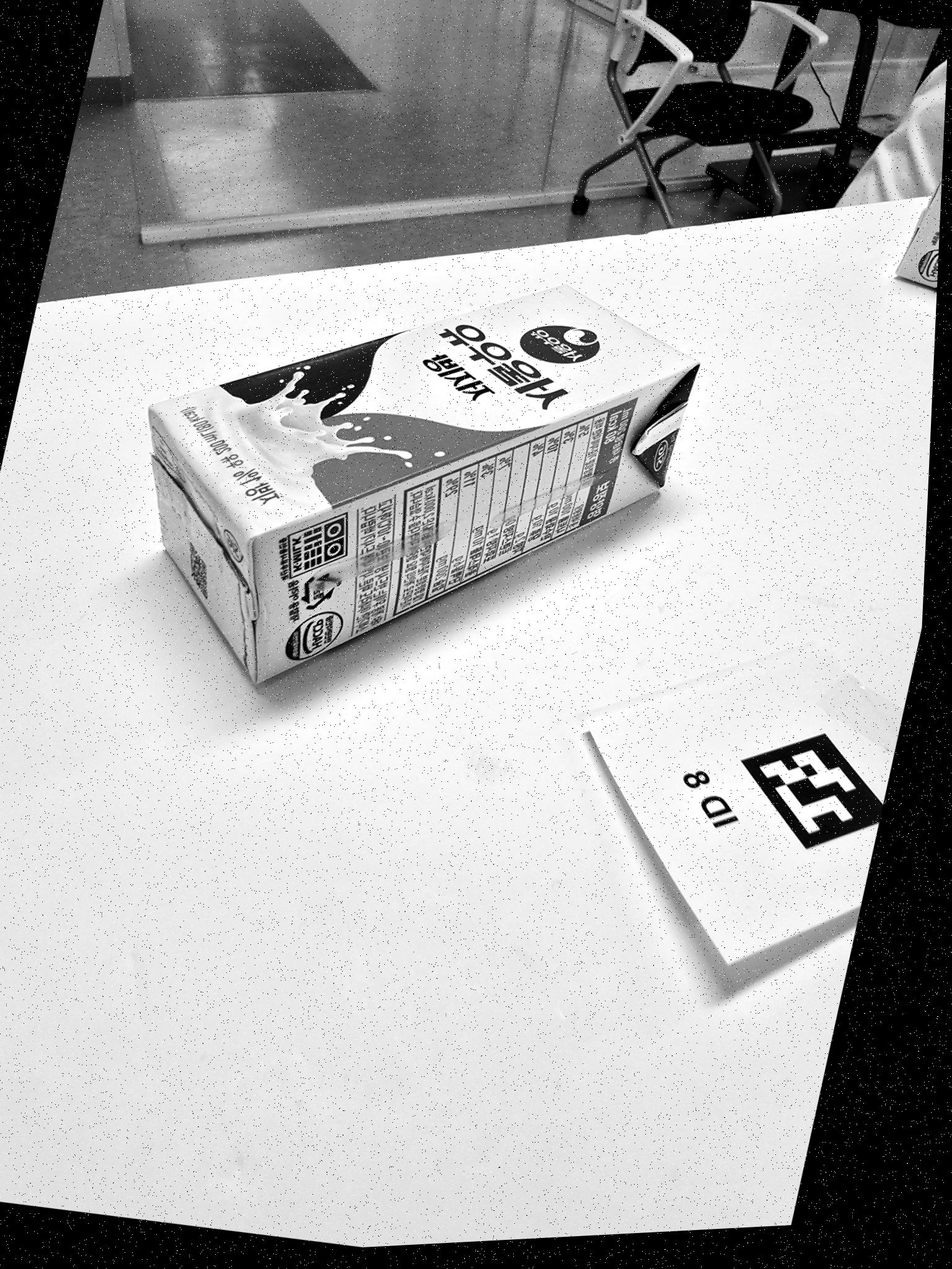milk_blue: (147, 283, 702, 684)
